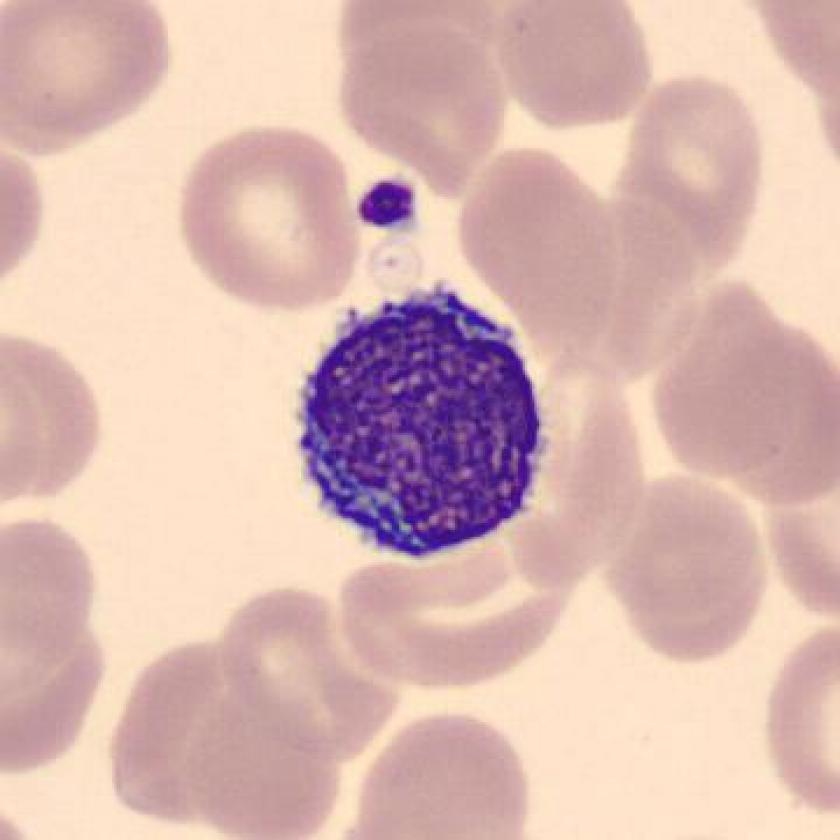lymphocyte: (281, 272, 556, 568)
platelets: (352, 176, 427, 235)
